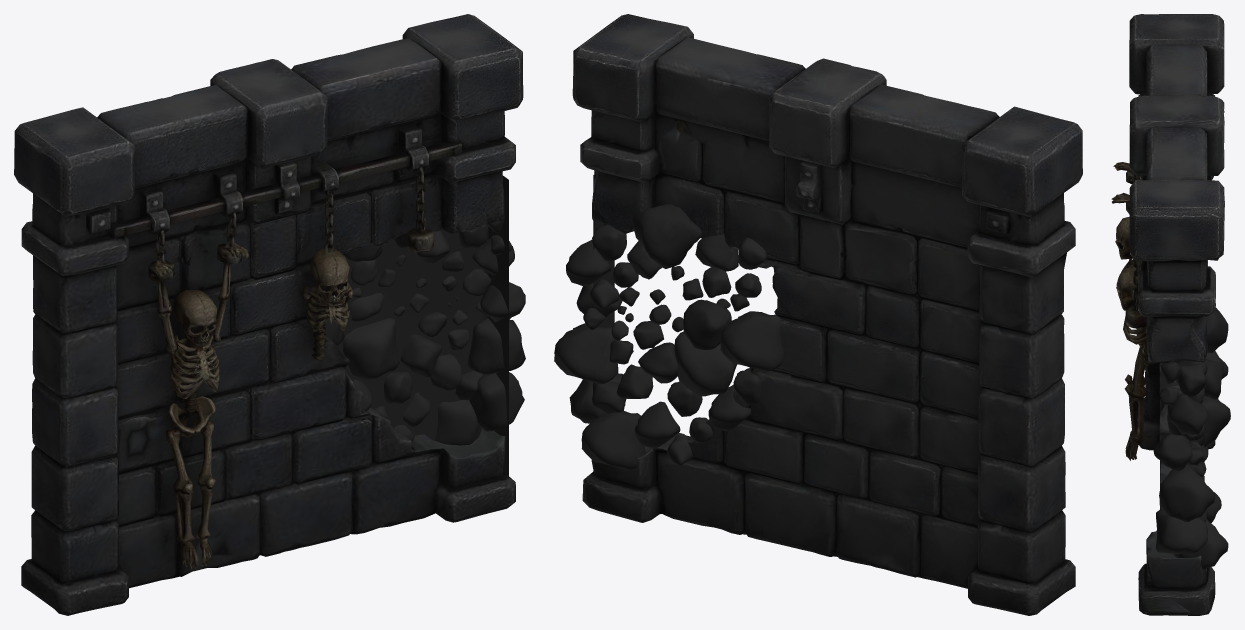
The model's file is Wall_Skeletons.fbx.
3 renders of one model, left to right at view 1: azimuth 30°, elevation 25°; view 2: azimuth 150°, elevation 25°; view 3: azimuth 270°, elevation 25°, orthographic. The views are drawn at different scales.
Parts seen in each view (by area): view 1: Wall_Skeletons; view 2: Wall_Skeletons; view 3: Wall_Skeletons.
Boxes of the visible parts, x1,y1,x2,y2 form: Wall_Skeletons: (14, 14, 525, 615); Wall_Skeletons: (554, 14, 1082, 615); Wall_Skeletons: (1111, 14, 1230, 615).
Size of the model in its own units: 335 by 304 by 79.93.
Materials: 1 (1 with a texture image).
